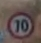limite 70: (6, 11, 33, 39)
